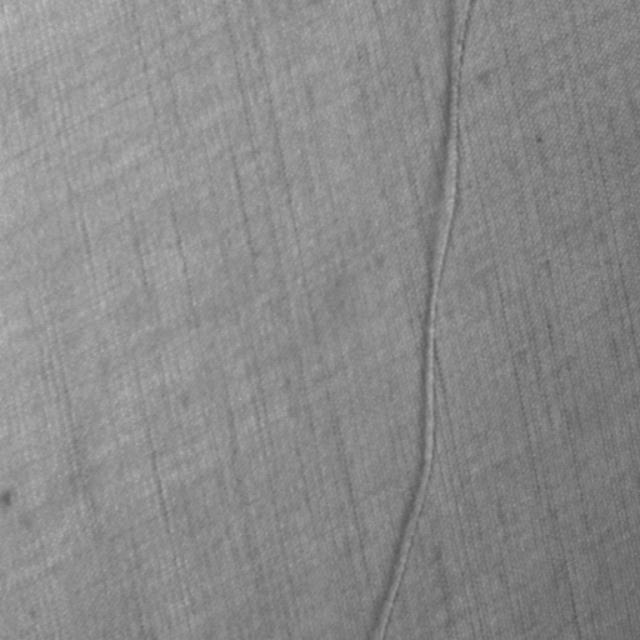objects: (367, 0, 481, 638)
